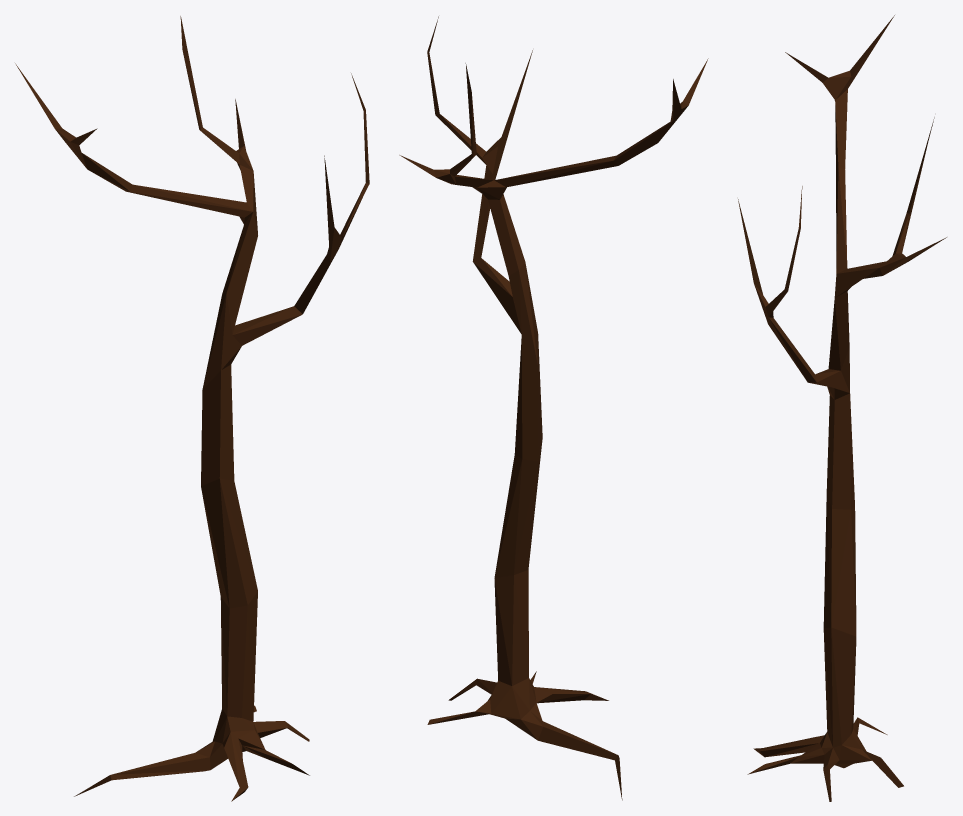
File: Glade_Tree_Tronc2.fbx
The picture shows the model from 3 angles, left to right: view 1: azimuth 30°, elevation 25°; view 2: azimuth 150°, elevation 25°; view 3: azimuth 270°, elevation 25°; orthographic projection. The views are drawn at different scales.
Parts seen in each view (by area): view 1: Icosphere.013; view 2: Icosphere.013; view 3: Icosphere.013.
Boxes of the visible parts, <box> form: Icosphere.013: <box>15,16,369,801</box>; Icosphere.013: <box>399,16,708,800</box>; Icosphere.013: <box>738,15,946,801</box>.
Size of the model in its own units: 197 by 468 by 129.
